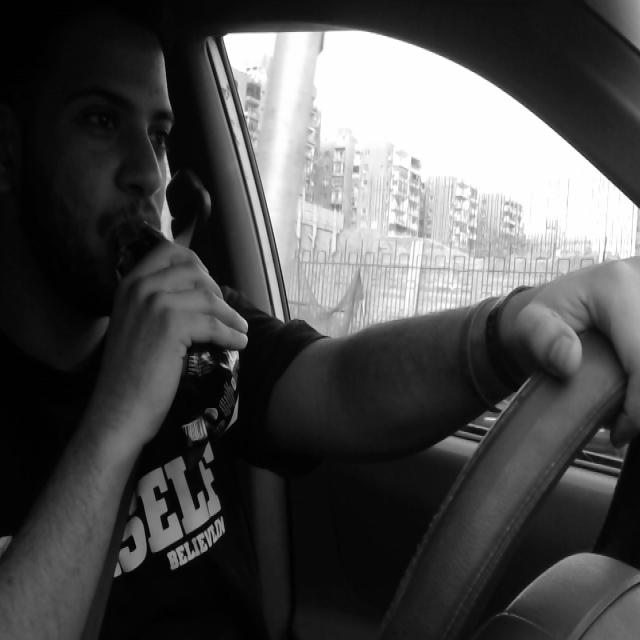eating: (114, 218, 244, 466)
